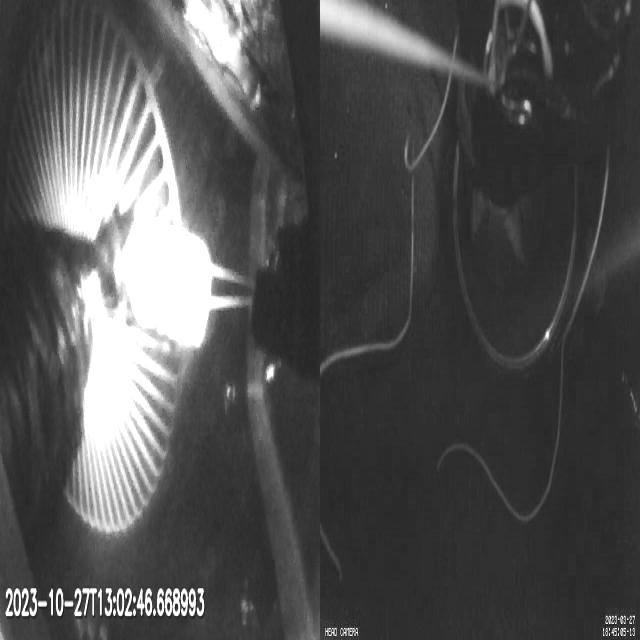head: (128, 217, 211, 348)
